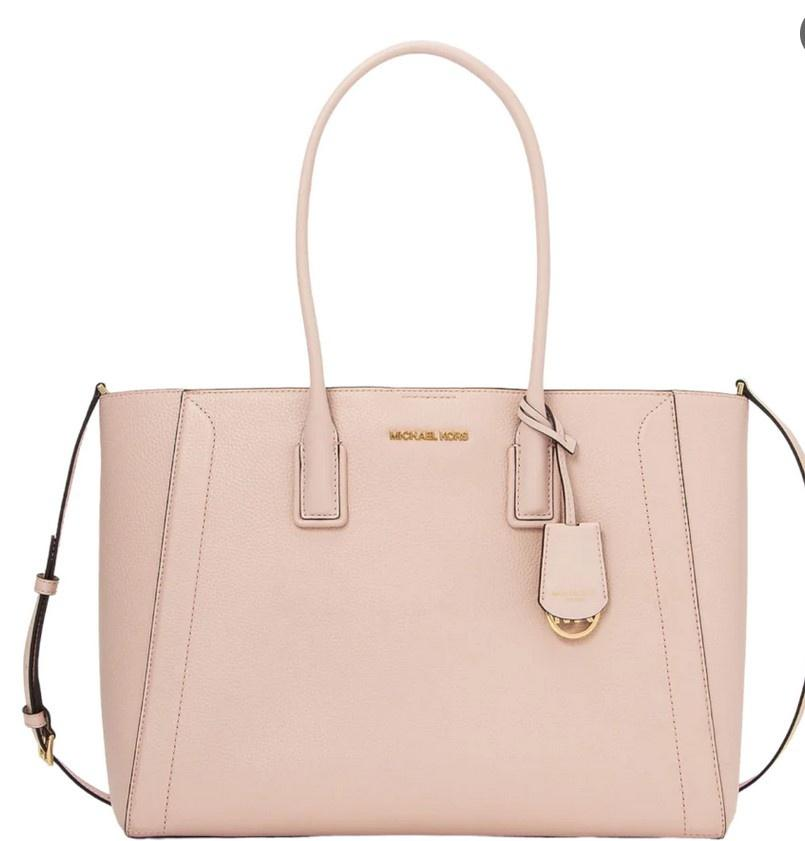MICHAEL-KORS: (389, 431, 468, 442)
